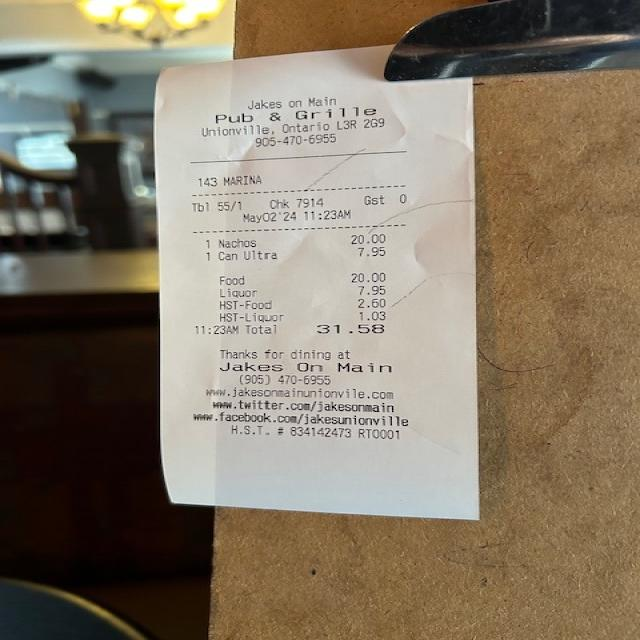item: (210, 244, 397, 264), (210, 230, 397, 250)
store_name: (207, 103, 389, 126)
total_amount: (241, 321, 392, 343)
transaction_date: (237, 207, 305, 228)
